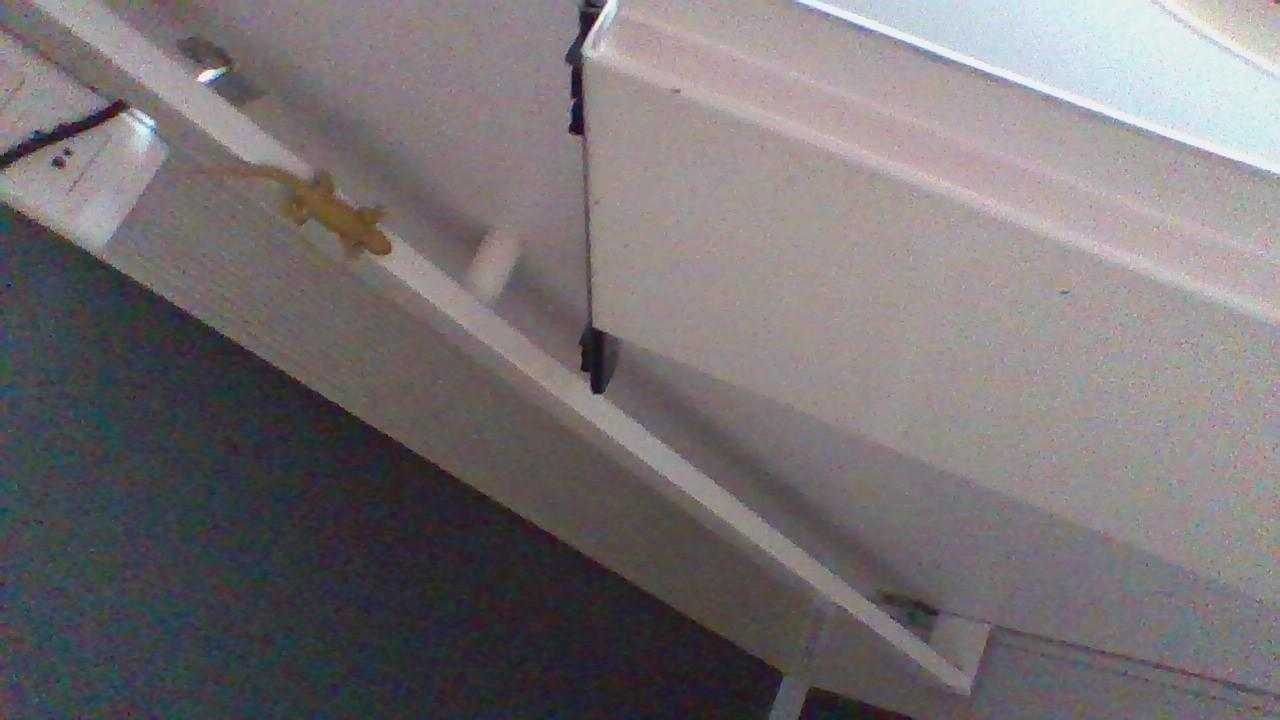lizard: (173, 129, 400, 273)
